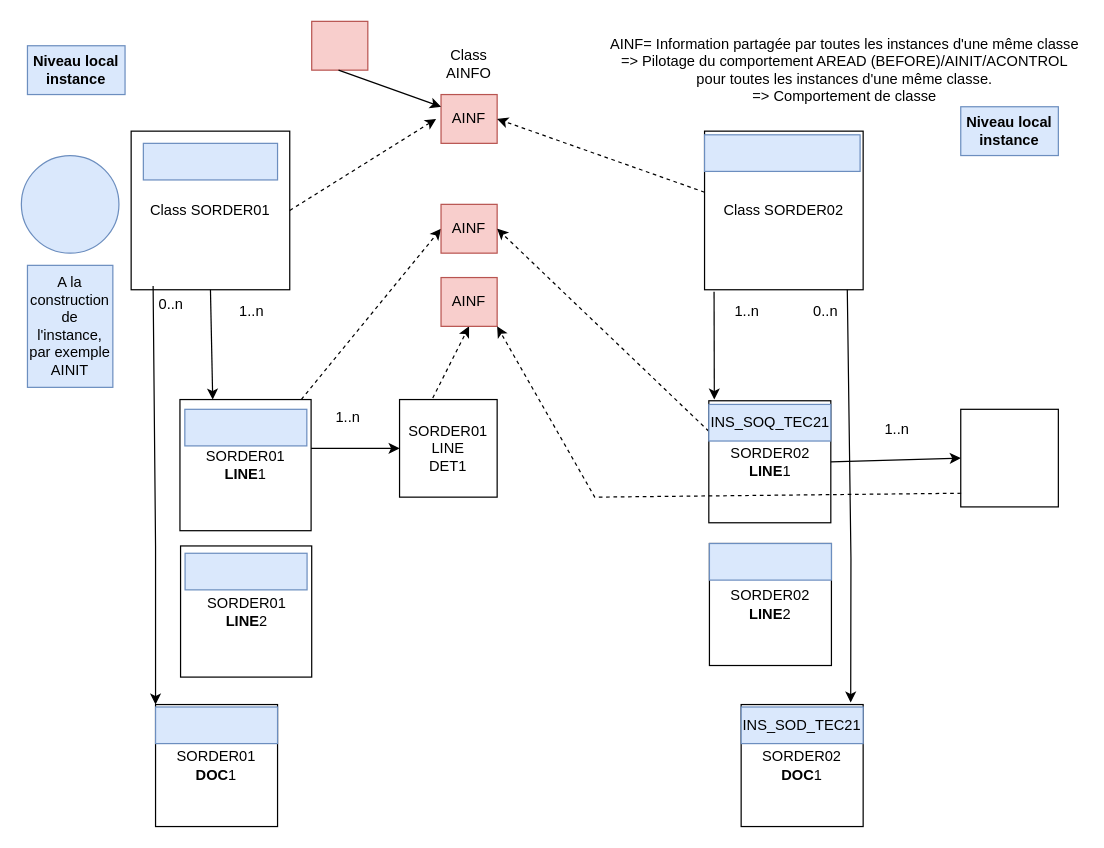
This 1104x848 diagram has some shape labels left out. The shapes that lost their labels are listed below. From the top down, each one's centre as x and y in pixels, then its label:
At (x=339, y=45): "Niveau classe".
At (x=210, y=161): "INS_SOH_TEC01".
At (x=781, y=152): "INS_SOH_TEC02".
At (x=69, y=203): "Evenement ASETUP".
At (x=245, y=427): "INS_SOQ_TEC11".
At (x=1009, y=457): "SORDER02 LINE DET1".
At (x=245, y=571): "INS_SOQ_TEC12".
At (x=769, y=561): "INS_SOQ_TEC22".
At (x=216, y=725): "INS_SOD_TEC11".
